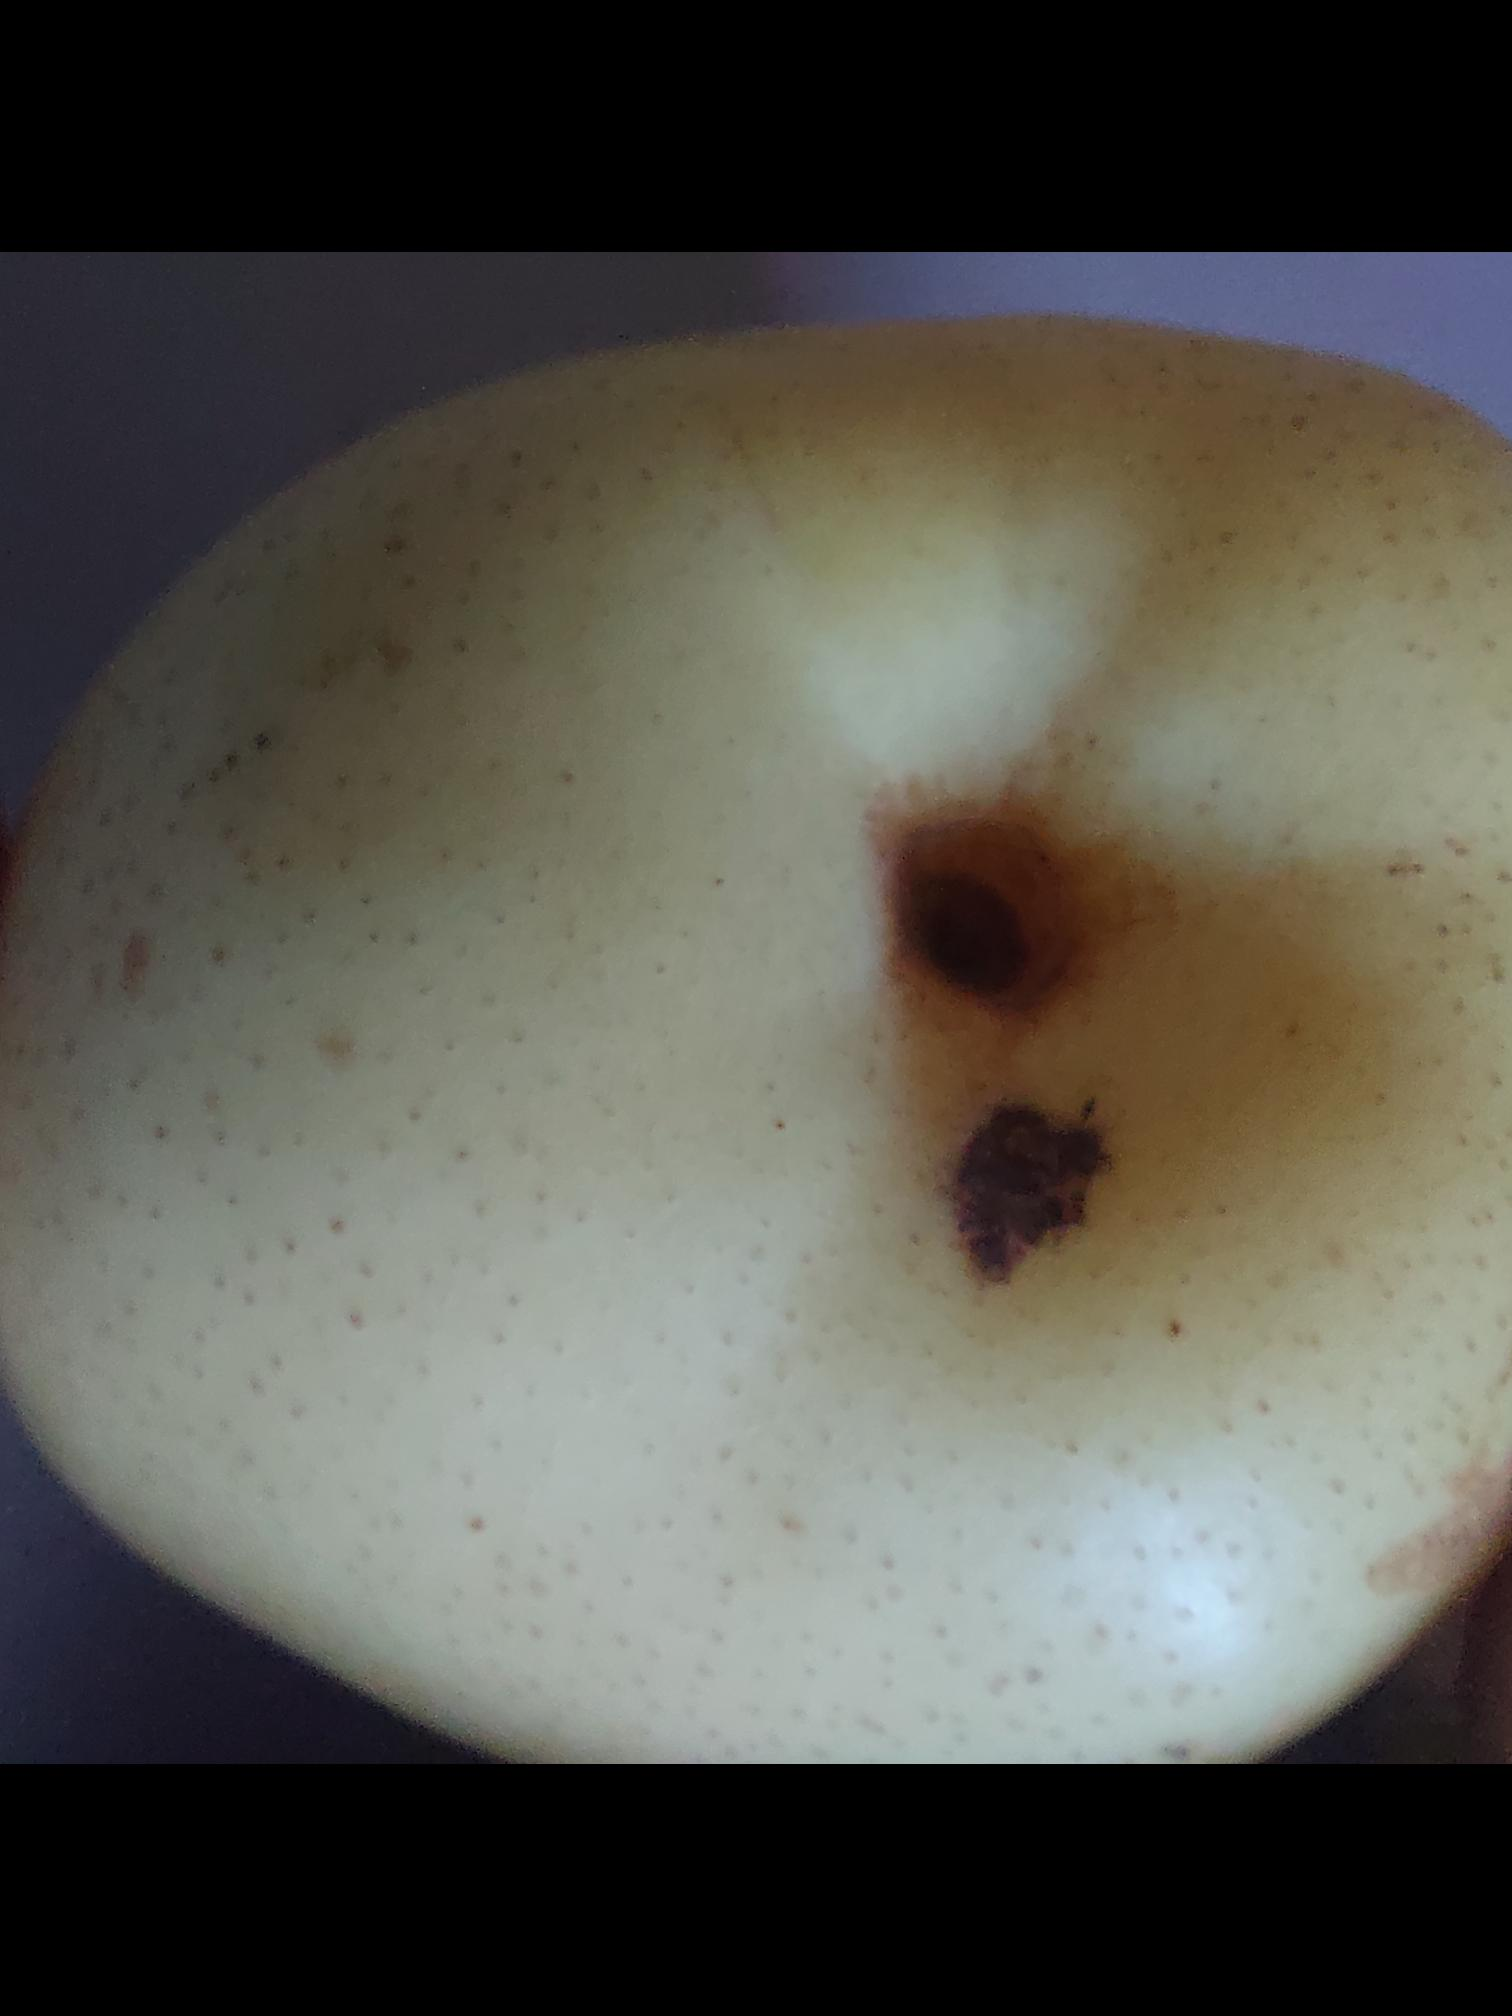Good Pear: (0, 332, 1512, 1764)
